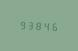eight: (34, 19, 41, 31)
four: (42, 20, 49, 31)
nine: (18, 18, 25, 30)
six: (50, 20, 57, 31)
three: (26, 19, 33, 30)
